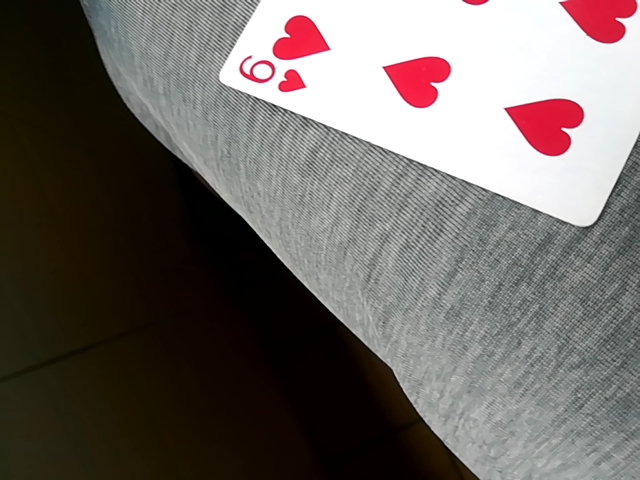hx 6: (220, 0, 640, 226)
